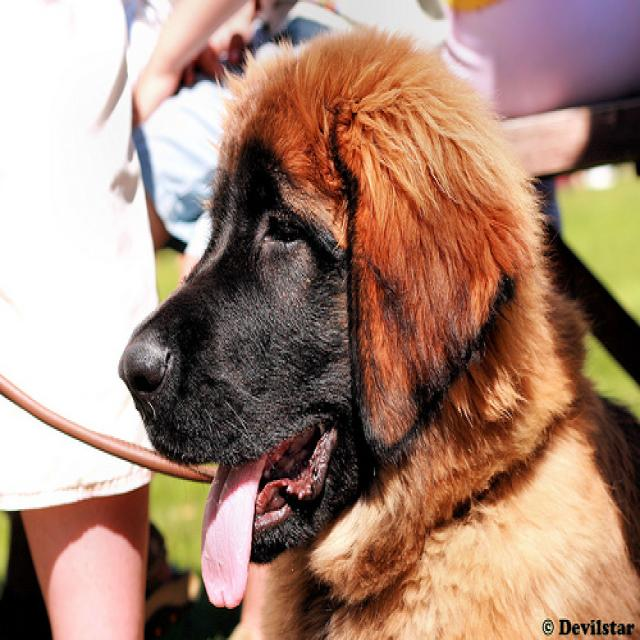dog-leonberger: (115, 15, 637, 636)
